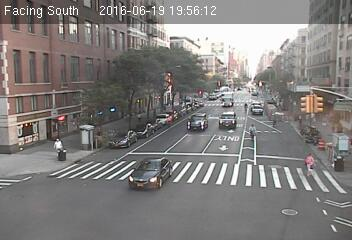neg: (16, 150, 47, 190), (123, 135, 148, 168), (280, 68, 305, 100), (128, 89, 152, 120), (75, 120, 99, 151), (29, 79, 52, 110), (83, 173, 105, 203), (181, 49, 202, 78), (212, 182, 232, 209), (160, 159, 178, 184), (182, 124, 200, 148), (284, 197, 302, 221), (252, 149, 270, 173), (217, 110, 234, 132), (239, 61, 255, 83), (305, 102, 320, 122), (69, 54, 84, 73)
pos: (302, 149, 320, 174), (52, 134, 67, 154)
